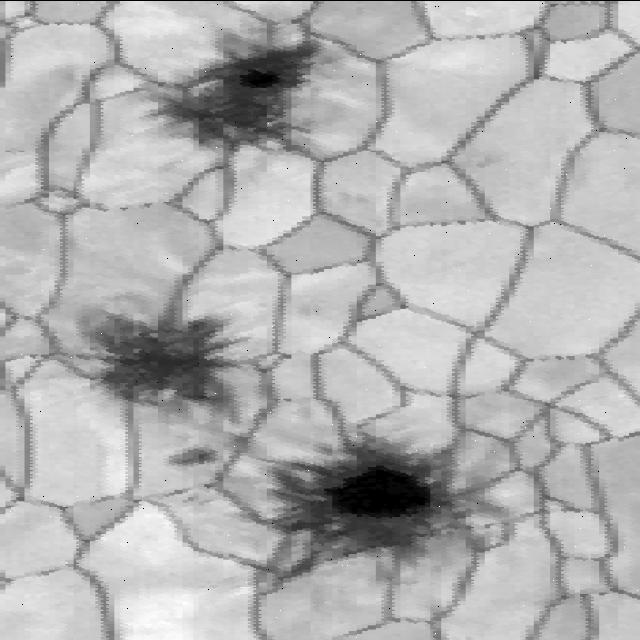good_void: (247, 437, 463, 576), (63, 309, 289, 426), (145, 28, 330, 159), (168, 438, 225, 469), (178, 491, 218, 511), (476, 517, 503, 532), (279, 393, 298, 406)
